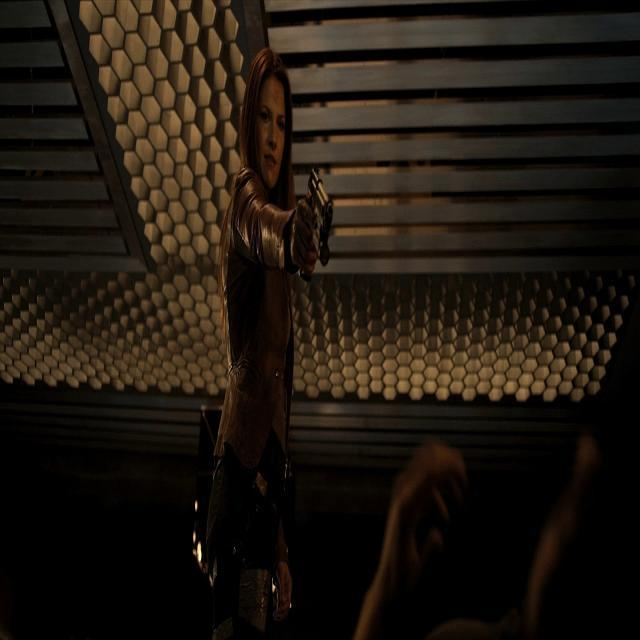gun-knife-thesis - v11 Yolov5 augmented: (290, 165, 338, 292)
